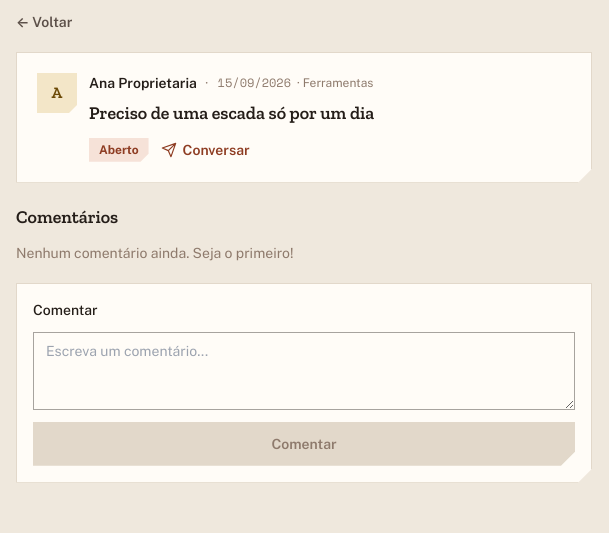
Scenario: PostDetalhePage › envia um comentário e adiciona na lista sem precisar recarregar
Expected: the text "Preciso de uma escada só por um dia" is shown, [89, 102, 374, 124]
Type "Posso te ajudar com isso!" into the text box labelled "Comentar".
click(304, 371); type("Posso te ajudar com isso!")  # box [33, 332, 575, 410]
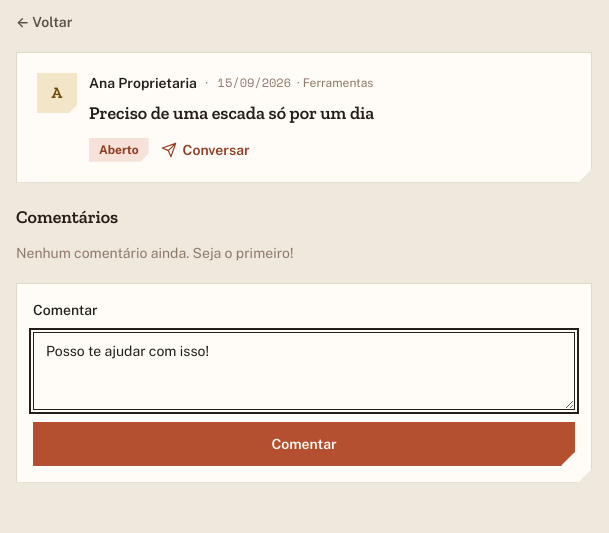
Click the button "Comentar".
click(304, 444)  # box [33, 422, 575, 466]
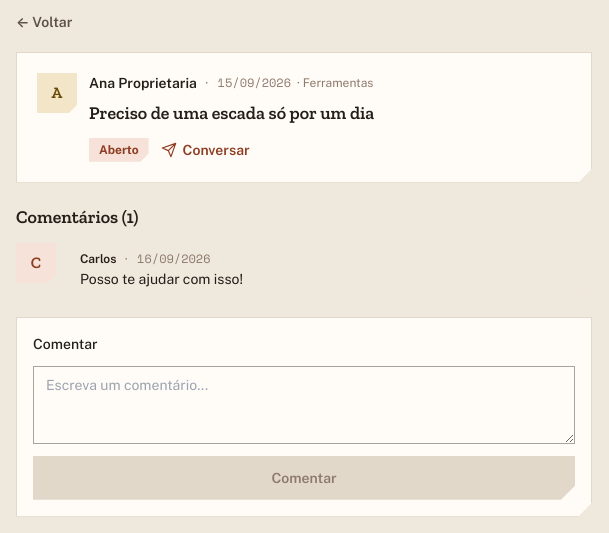
Now the text "Posso te ajudar com isso!" is shown, box [80, 271, 243, 287]
